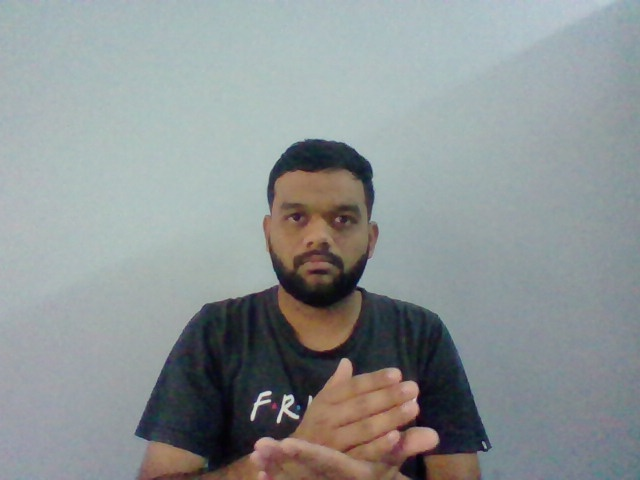Stop: (251, 355, 440, 480)
